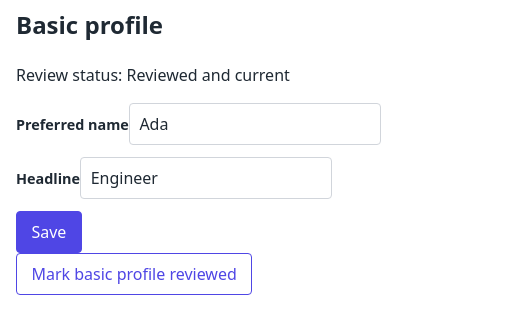
BasicProfilePage › does not report a zero-row save as success
The width and height of the screenshot is (513, 312).
Check: the field showing "Ada" is shown, box [129,103,381,145]
Click the button "Save": point(49, 232) [16,211,82,253]
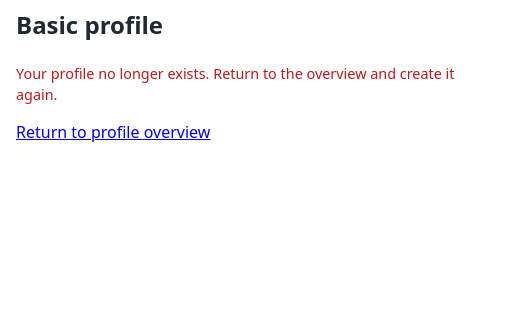
Check: the text "Your profile no longer exists. Return to the overview and create it again." is shown, box [16,63,496,106]
